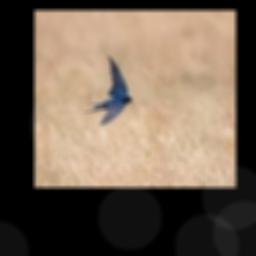Swallow: (84, 55, 132, 123)
